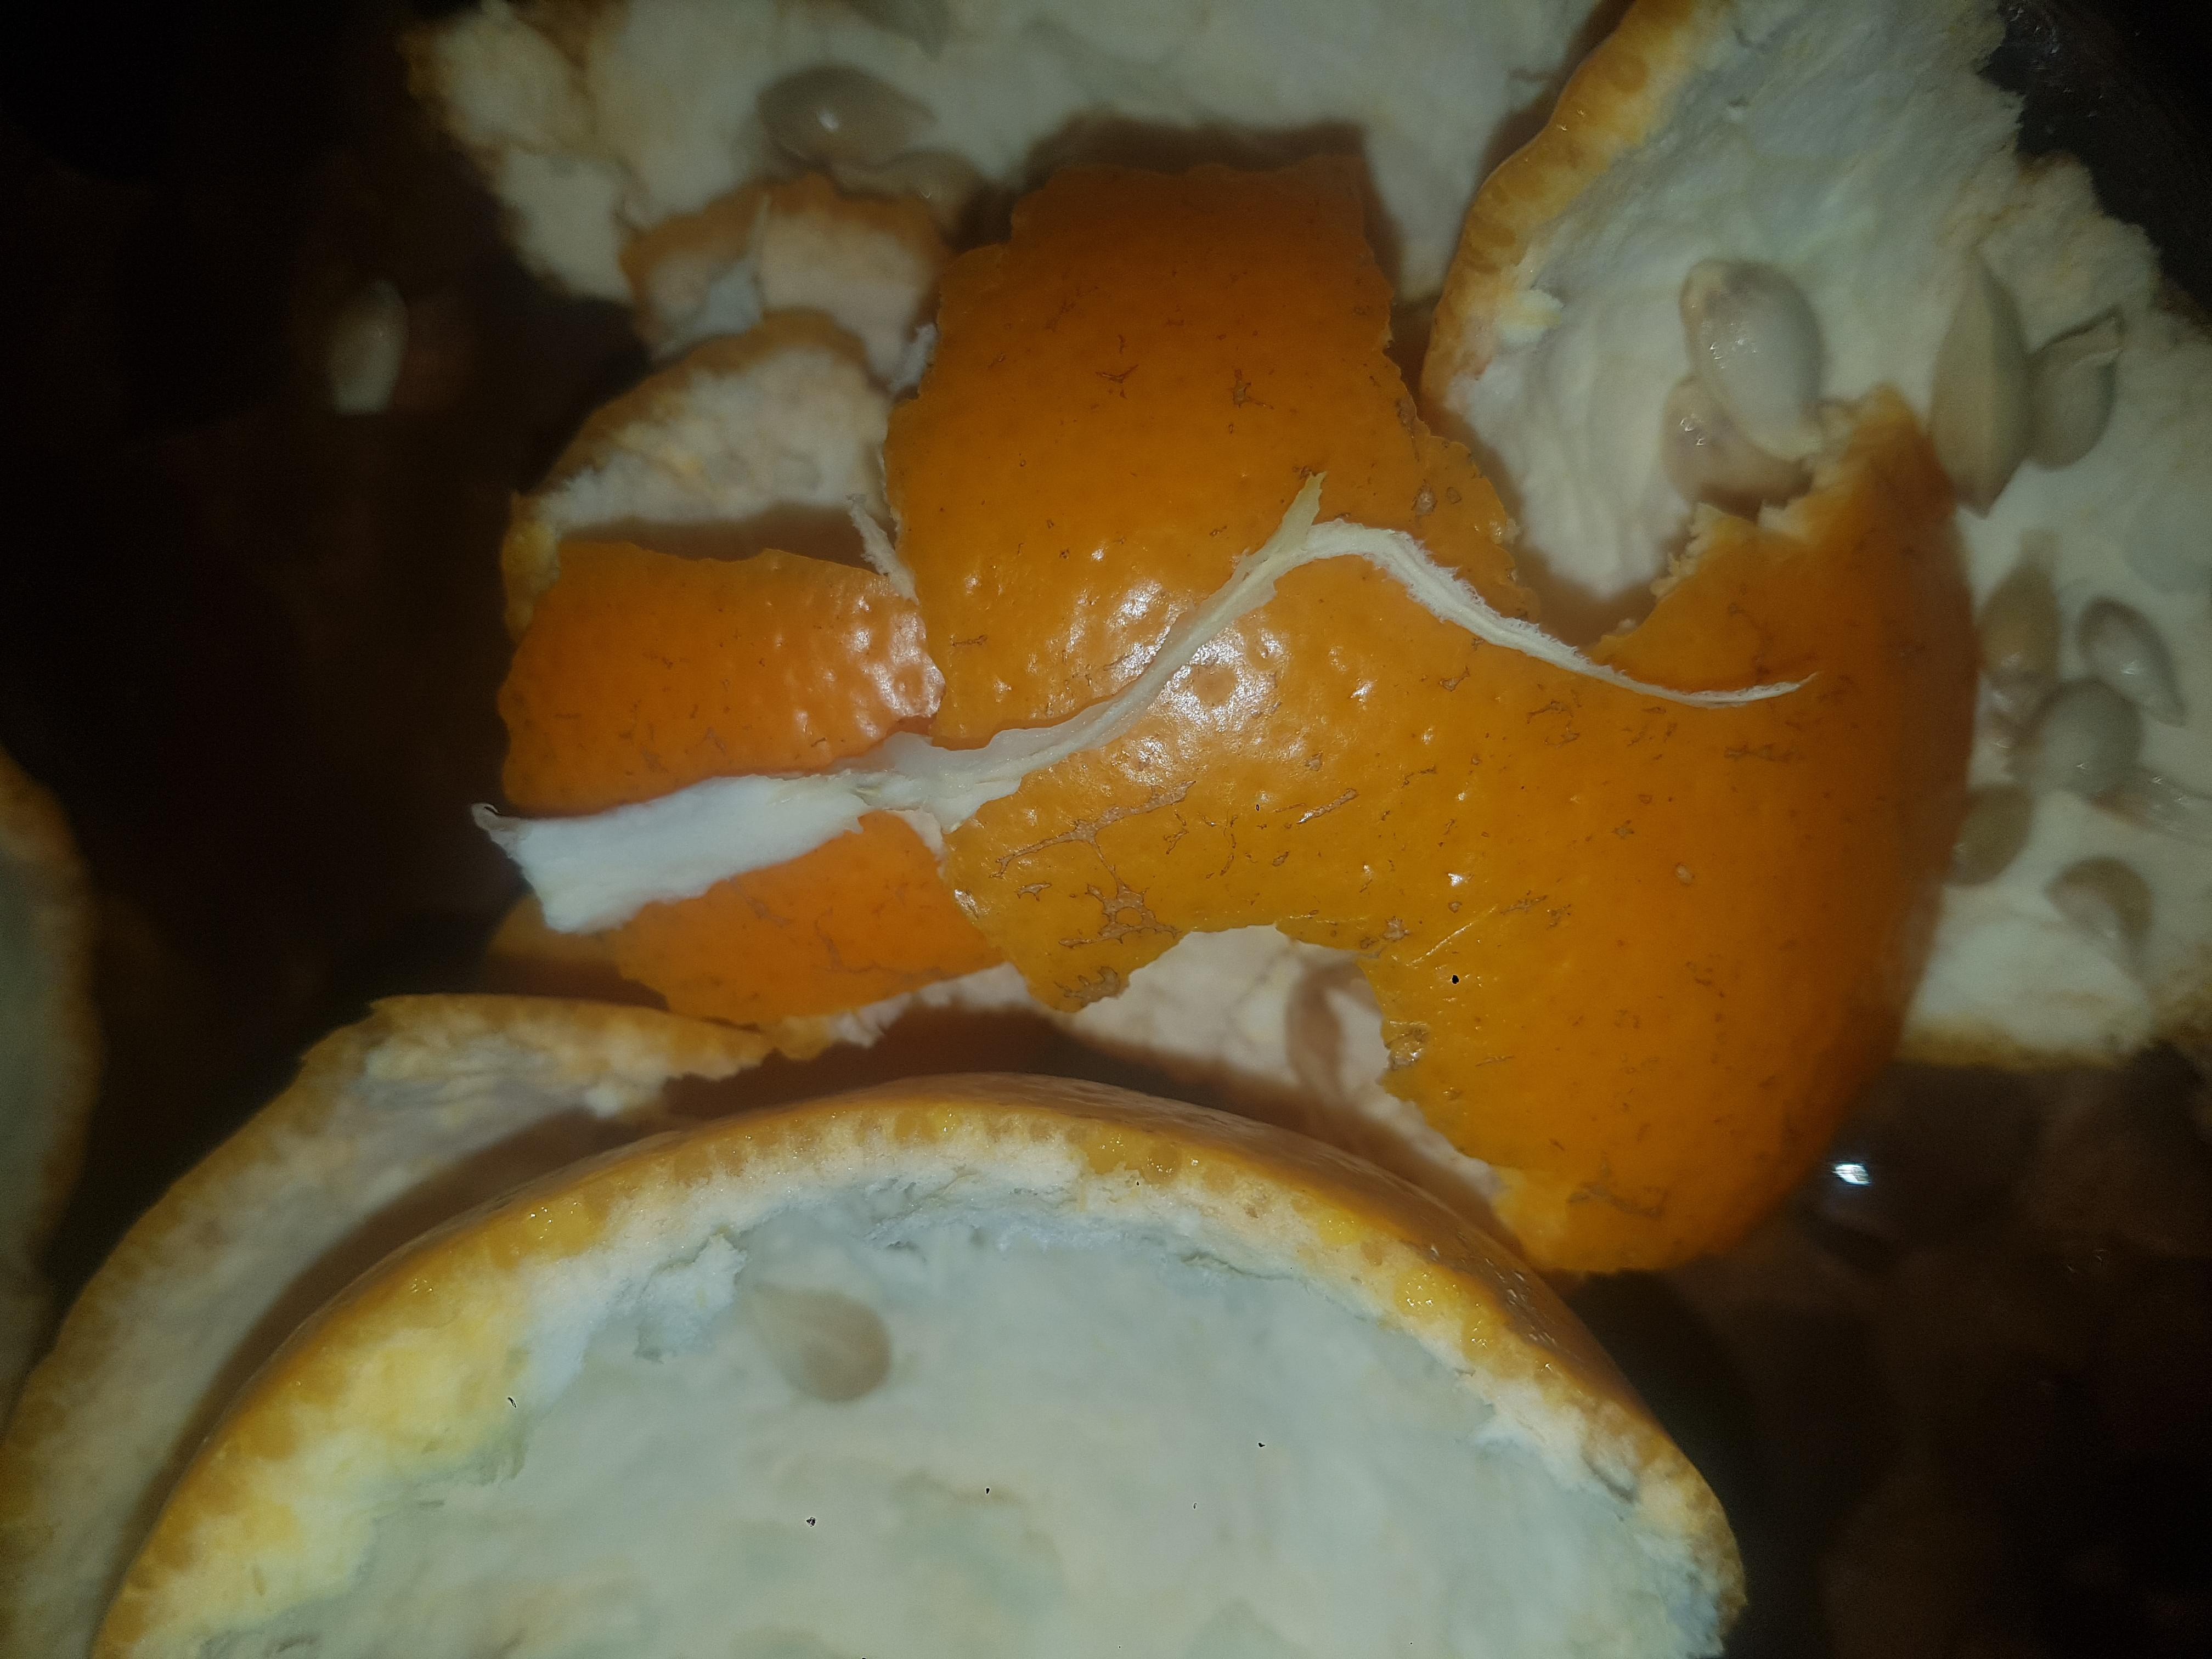organic: (9, 3, 2146, 1628)
